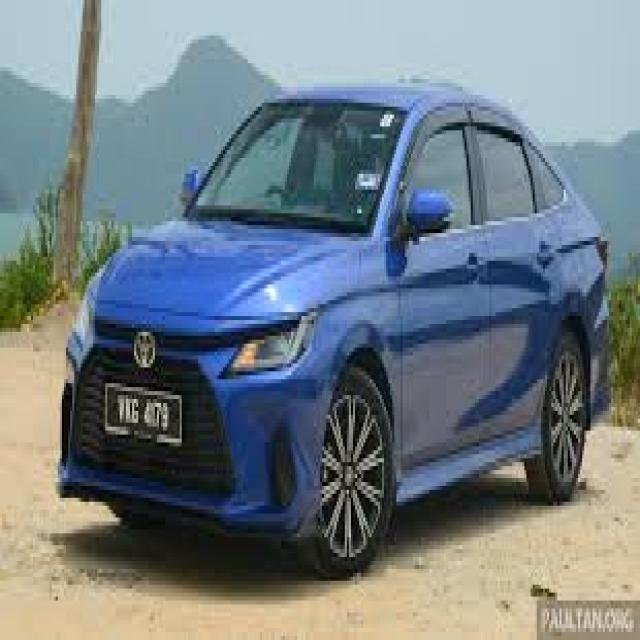ToyotaVios: (55, 76, 612, 579)
